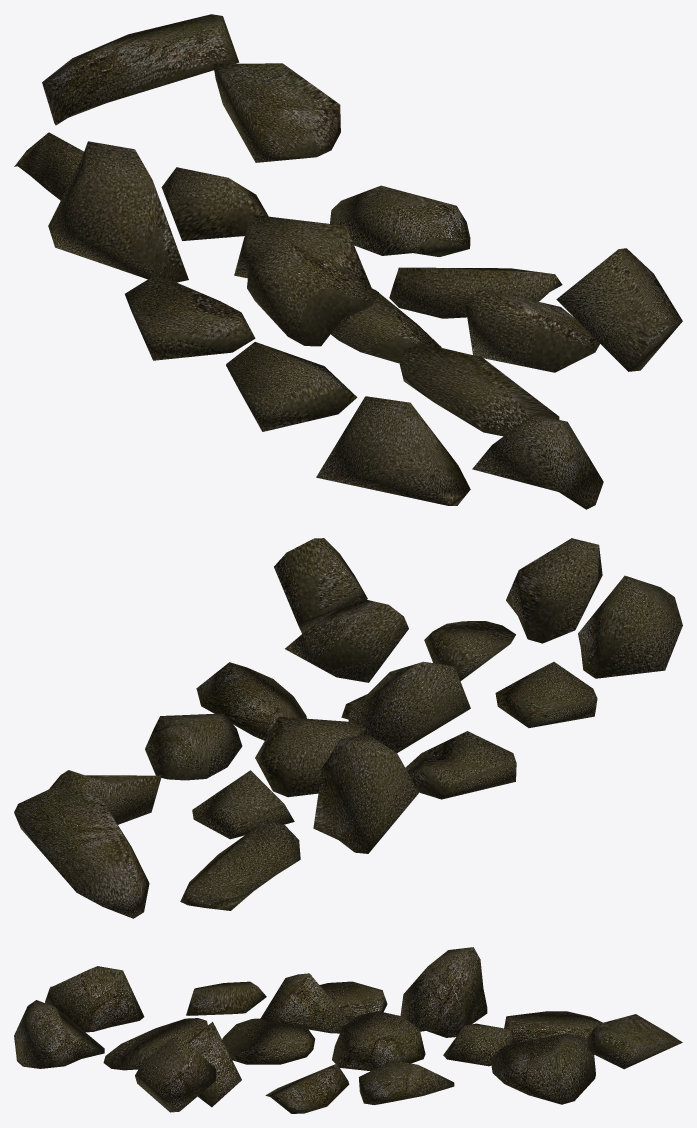
The model's file is rocks_1.glb.
The picture shows the model from 3 angles, top to bottom: view 1: azimuth 30°, elevation 25°; view 2: azimuth 150°, elevation 25°; view 3: azimuth 270°, elevation 25°; orthographic projection. The views are drawn at different scales.
Visible parts, largest first — view 1: rocks; view 2: rocks; view 3: rocks.
Boxes of the visible parts, x1,y1,x2,y2 form: rocks: [14, 14, 682, 509]; rocks: [14, 538, 682, 918]; rocks: [14, 947, 682, 1113].
Bounding box in the file's own units: 0.7366 × 0.2243 × 1.74.
1 material, 1 textured.
